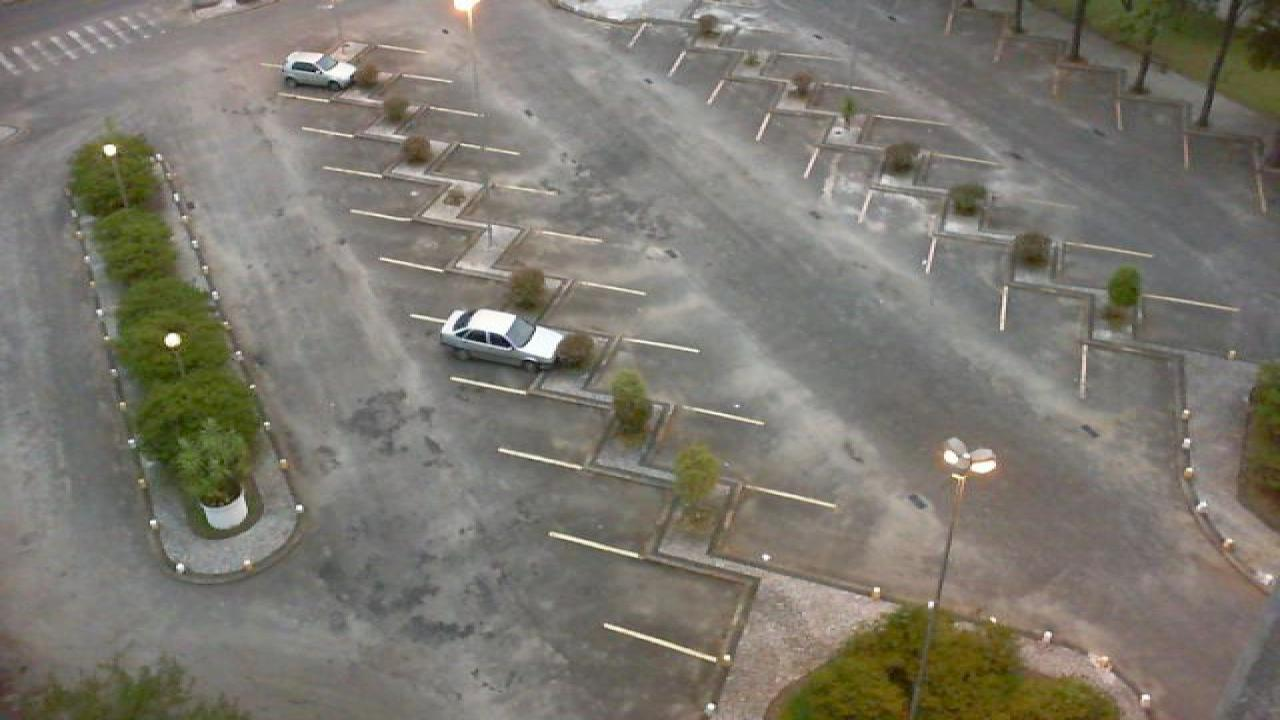Car: (440, 308, 566, 372), (282, 51, 360, 90)
